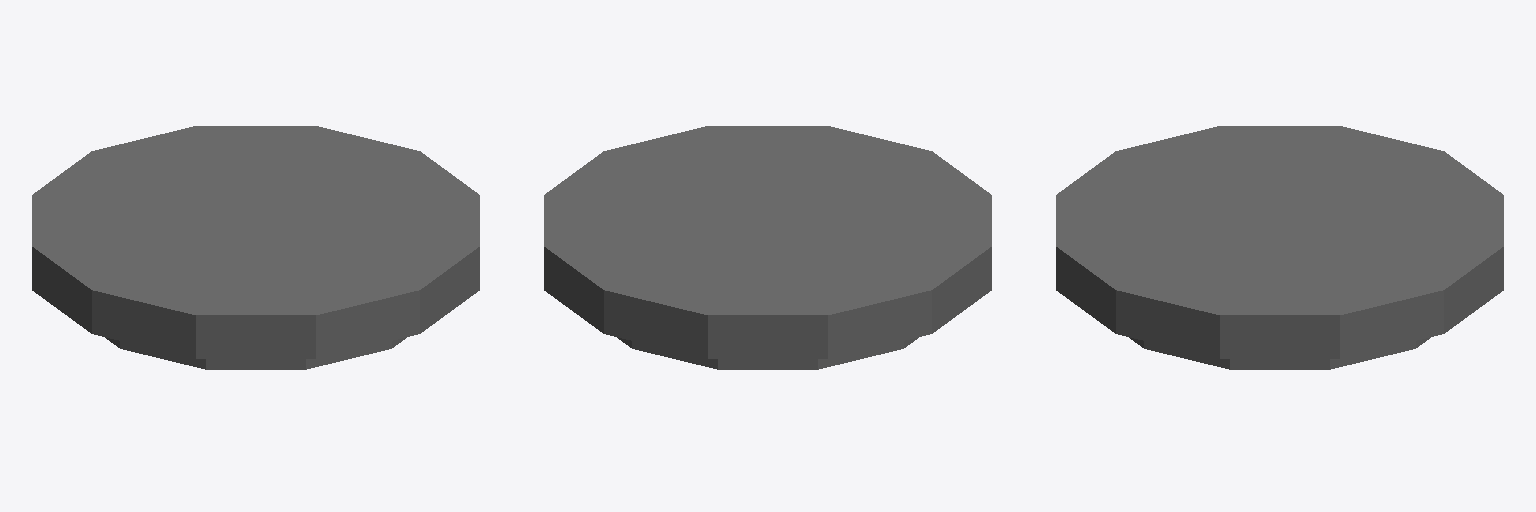
Rendered from dessusAutel.obj.
3 renders of one model, left to right at view 1: azimuth 30°, elevation 25°; view 2: azimuth 150°, elevation 25°; view 3: azimuth 270°, elevation 25°, orthographic.
Size of the model in its own units: 1.99 by 0.3455 by 1.99.